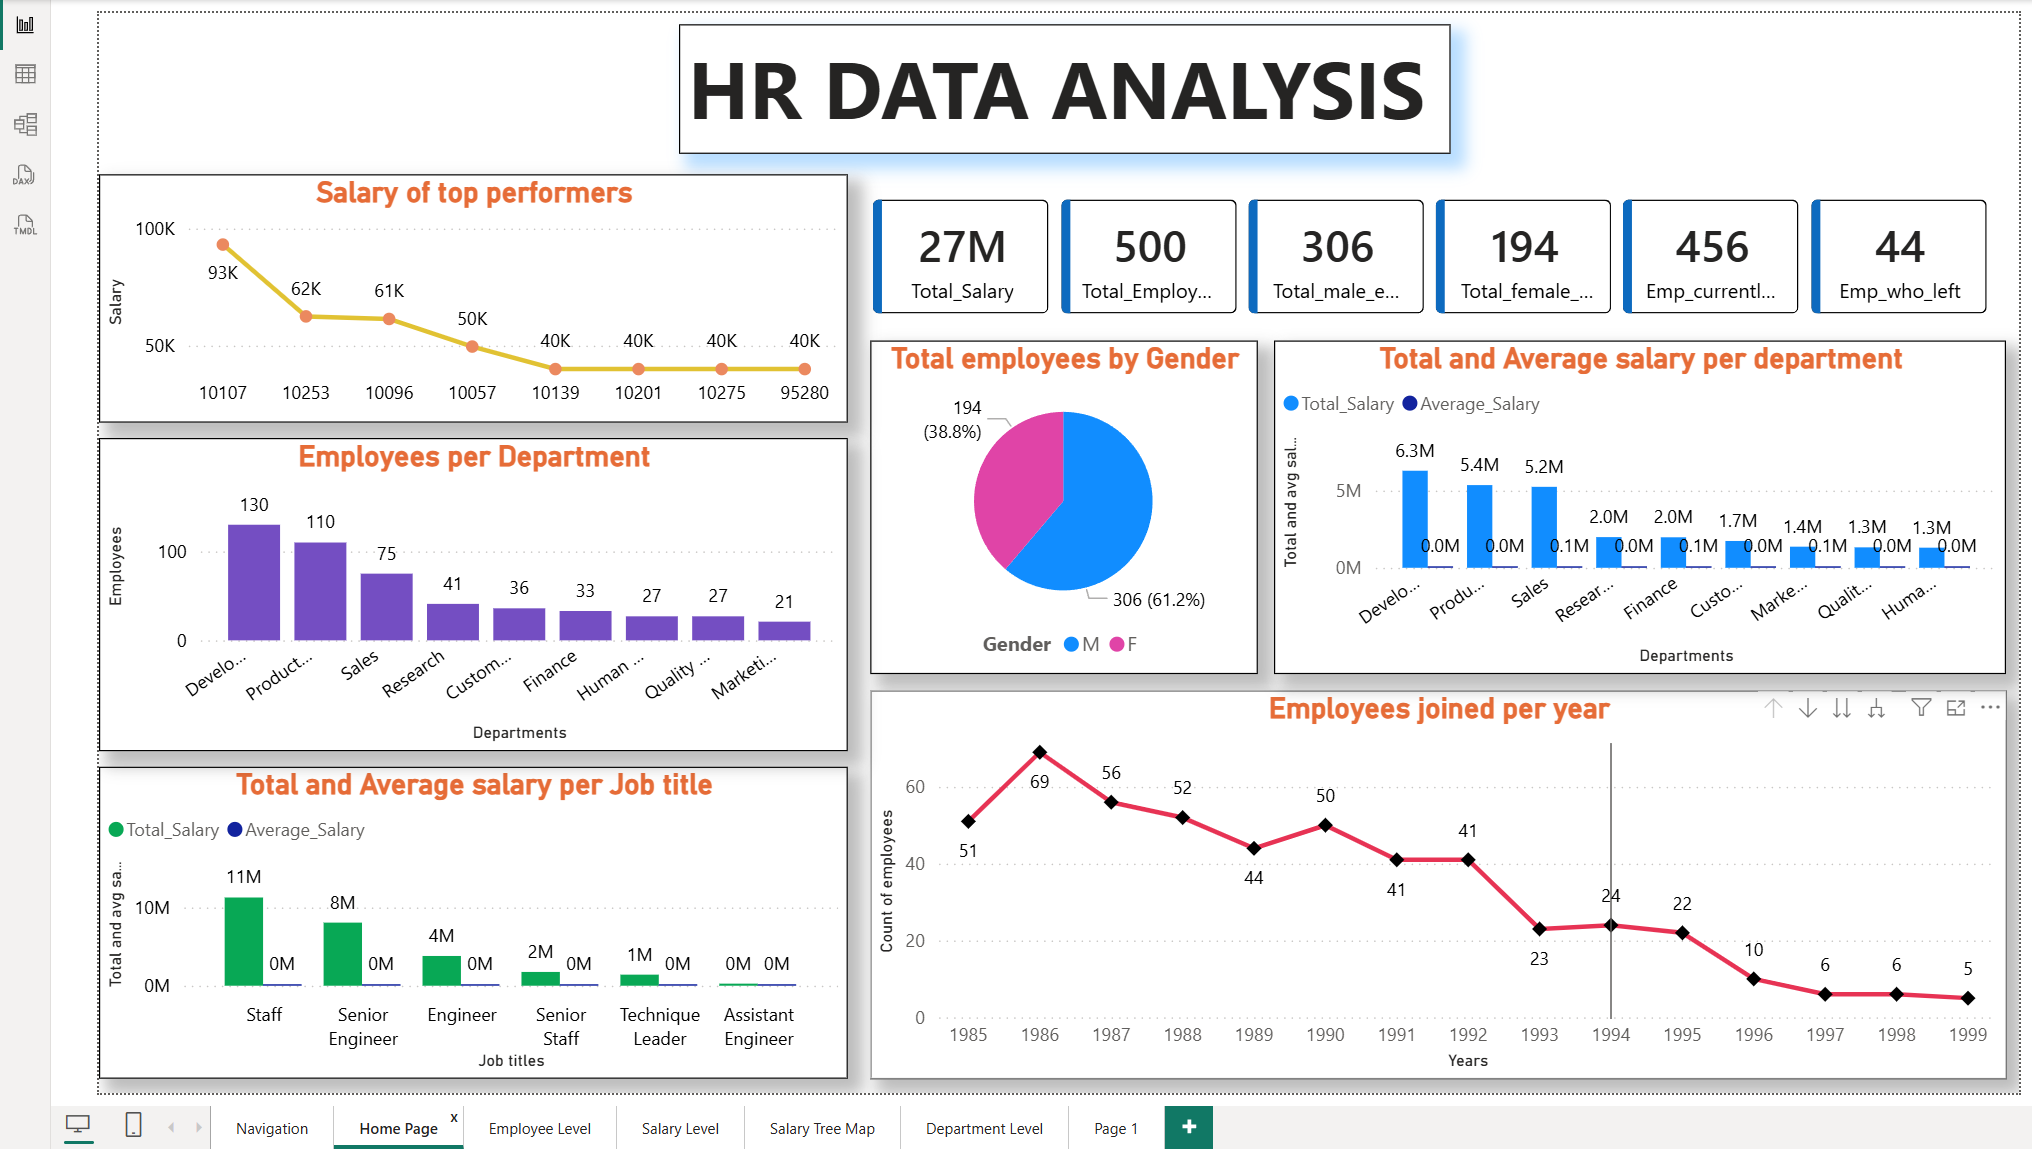

The dashboard page shown, as its layout file describes it:
{"tool":"powerbi","page":{"name":"Home Page","canvas":[1280,720],"ordinal":1},"visuals":[{"type":"cardVisual","fields":{"Data":["Emp_Info.Total_Salary","Emp_Info.Total_Employees","Emp_Info.Total_male_emp","Emp_Info.Total_female_emp","Emp_Info.Emp_currently_there","Emp_Info.Emp_who_left"]},"box":[499.1,107.3,780.9,110.9],"z":0},{"type":"textbox","box":[386.4,7.3,514.5,86.4],"z":1000},{"type":"pieChart","title":"Total employees by Gender","fields":{"Y":["CountNonNull(Emp_Info.Emp_Id)"],"Category":["Emp_Info.Gender"]},"box":[514.5,218.2,258.2,222.7],"z":2000},{"type":"clusteredColumnChart","title":"Total and Average salary per Job title","fields":{"Y":["Emp_Info.Total_Salary","Emp_Info.Average_Salary"],"Category":["Emp_Info.Title"]},"box":[0,502.7,499.1,208.2],"z":3000},{"type":"lineChart","title":"Employees joined per year","fields":{"Category":["Emp_Info.DoJ.Variation.Date Hierarchy.Year","Emp_Info.DoJ.Variation.Date Hierarchy.Quarter","Emp_Info.DoJ.Variation.Date Hierarchy.Month","Emp_Info.DoJ.Variation.Date Hierarchy.Day"],"Y":["CountNonNull(Emp_Info.Emp_Id)"]},"box":[514.5,451.8,757.3,259.1],"z":4000},{"type":"clusteredColumnChart","title":"Total and Average salary per department","fields":{"Y":["Emp_Info.Total_Salary","Emp_Info.Average_Salary"],"Category":["Dept_Info.Dep_Name"]},"box":[783.6,218.2,488.2,222.7],"z":5000},{"type":"lineChart","title":"Salary of top performers","fields":{"Category":["Emp_Info.Emp_Id"],"Y":["Sum(Emp_Info.Salary)"]},"box":[0,107.3,499.1,165.5],"z":6000},{"type":"clusteredColumnChart","title":"Employees per Department","fields":{"Category":["Dept_Info.Dep_Name"],"Y":["CountNonNull(Emp_Info.Emp_Id)"]},"box":[0,283.6,499.1,209.1],"z":7000}]}

Visuals, with their boxes in screenshot pixels (x1, y1, x2, y2):
cardVisual - Emp_Info.Total_Salary x Emp_Info.Total_Employees: (x1=844, y1=167, x2=2023, y2=335)
textbox: (x1=673, y1=16, x2=1450, y2=147)
"Total employees by Gender" pieChart: (x1=867, y1=335, x2=1257, y2=671)
"Total and Average salary per Job title" clusteredColumnChart: (x1=90, y1=764, x2=844, y2=1079)
"Employees joined per year" lineChart: (x1=867, y1=688, x2=2010, y2=1079)
"Total and Average salary per department" clusteredColumnChart: (x1=1273, y1=335, x2=2010, y2=671)
"Salary of top performers" lineChart: (x1=90, y1=167, x2=844, y2=417)
"Employees per Department" clusteredColumnChart: (x1=90, y1=434, x2=844, y2=749)
